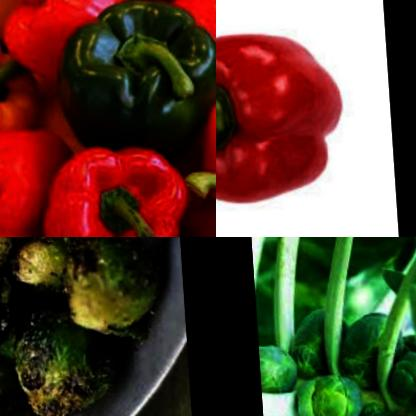bell pepper: (216, 26, 343, 211), (51, 0, 216, 142), (33, 135, 204, 237), (0, 0, 141, 70), (0, 129, 78, 237), (0, 14, 55, 138), (167, 0, 216, 94)
brus capusta: (0, 237, 187, 416), (255, 316, 416, 416)
